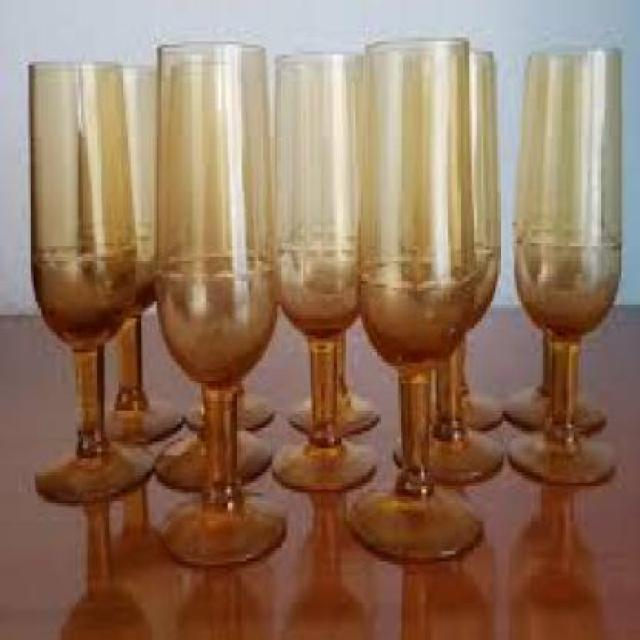kaca: (348, 41, 482, 558), (153, 38, 284, 564), (26, 55, 154, 500), (394, 44, 508, 476), (505, 48, 617, 483), (272, 48, 380, 489), (102, 59, 183, 442), (152, 380, 271, 489), (503, 326, 602, 432), (288, 329, 380, 428), (452, 336, 500, 436), (183, 380, 271, 428)
